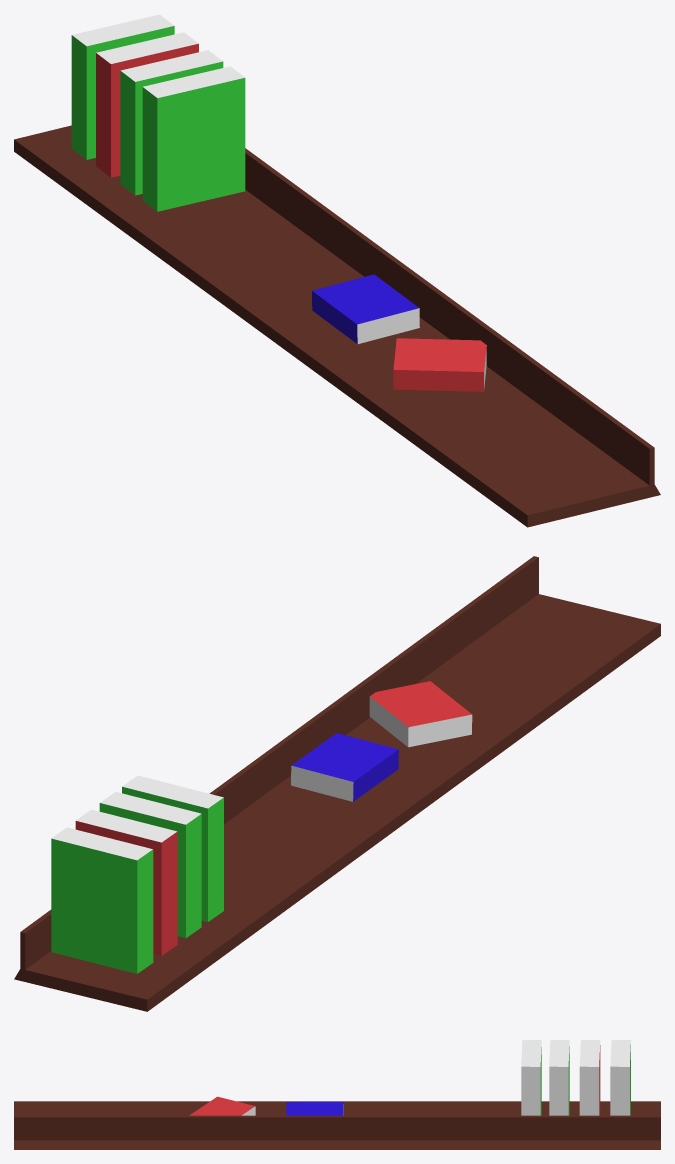
File: shelf.glb
The picture shows the model from 3 angles, top to bottom: view 1: azimuth 30°, elevation 25°; view 2: azimuth 150°, elevation 25°; view 3: azimuth 270°, elevation 25°; orthographic projection. The views are drawn at different scales.
Parts seen in each view (by area): view 1: Shelf, Book 1, Book 5, Book 4, Book 3, Book 6, Book 2; view 2: Shelf, Book 4, Book 5, Book 3, Book 2, Book 6, Book 1; view 3: Shelf, Book 3, Book 2, Book 1, Book 4, Book 6, Book 5.
Boxes of the visible parts, <box> form: Shelf: <box>14,125,660,527</box>; Book 1: <box>142,66,245,211</box>; Book 5: <box>312,274,419,344</box>; Book 4: <box>71,14,174,159</box>; Book 3: <box>96,32,198,177</box>; Book 6: <box>393,338,486,391</box>; Book 2: <box>120,50,223,195</box>; Shelf: <box>14,556,660,1011</box>; Book 4: <box>51,827,153,973</box>; Book 5: <box>291,733,398,801</box>; Book 3: <box>75,809,177,955</box>; Book 2: <box>99,792,201,938</box>; Book 6: <box>369,681,472,747</box>; Book 1: <box>122,775,223,921</box>; Shelf: <box>14,1101,660,1149</box>; Book 3: <box>579,1040,600,1115</box>; Book 2: <box>549,1040,569,1115</box>; Book 1: <box>521,1040,541,1115</box>; Book 4: <box>610,1040,630,1115</box>; Book 6: <box>189,1096,255,1115</box>; Book 5: <box>286,1101,343,1115</box>.
Size of the model in its own units: 0.8273 by 0.745 by 5.51.
